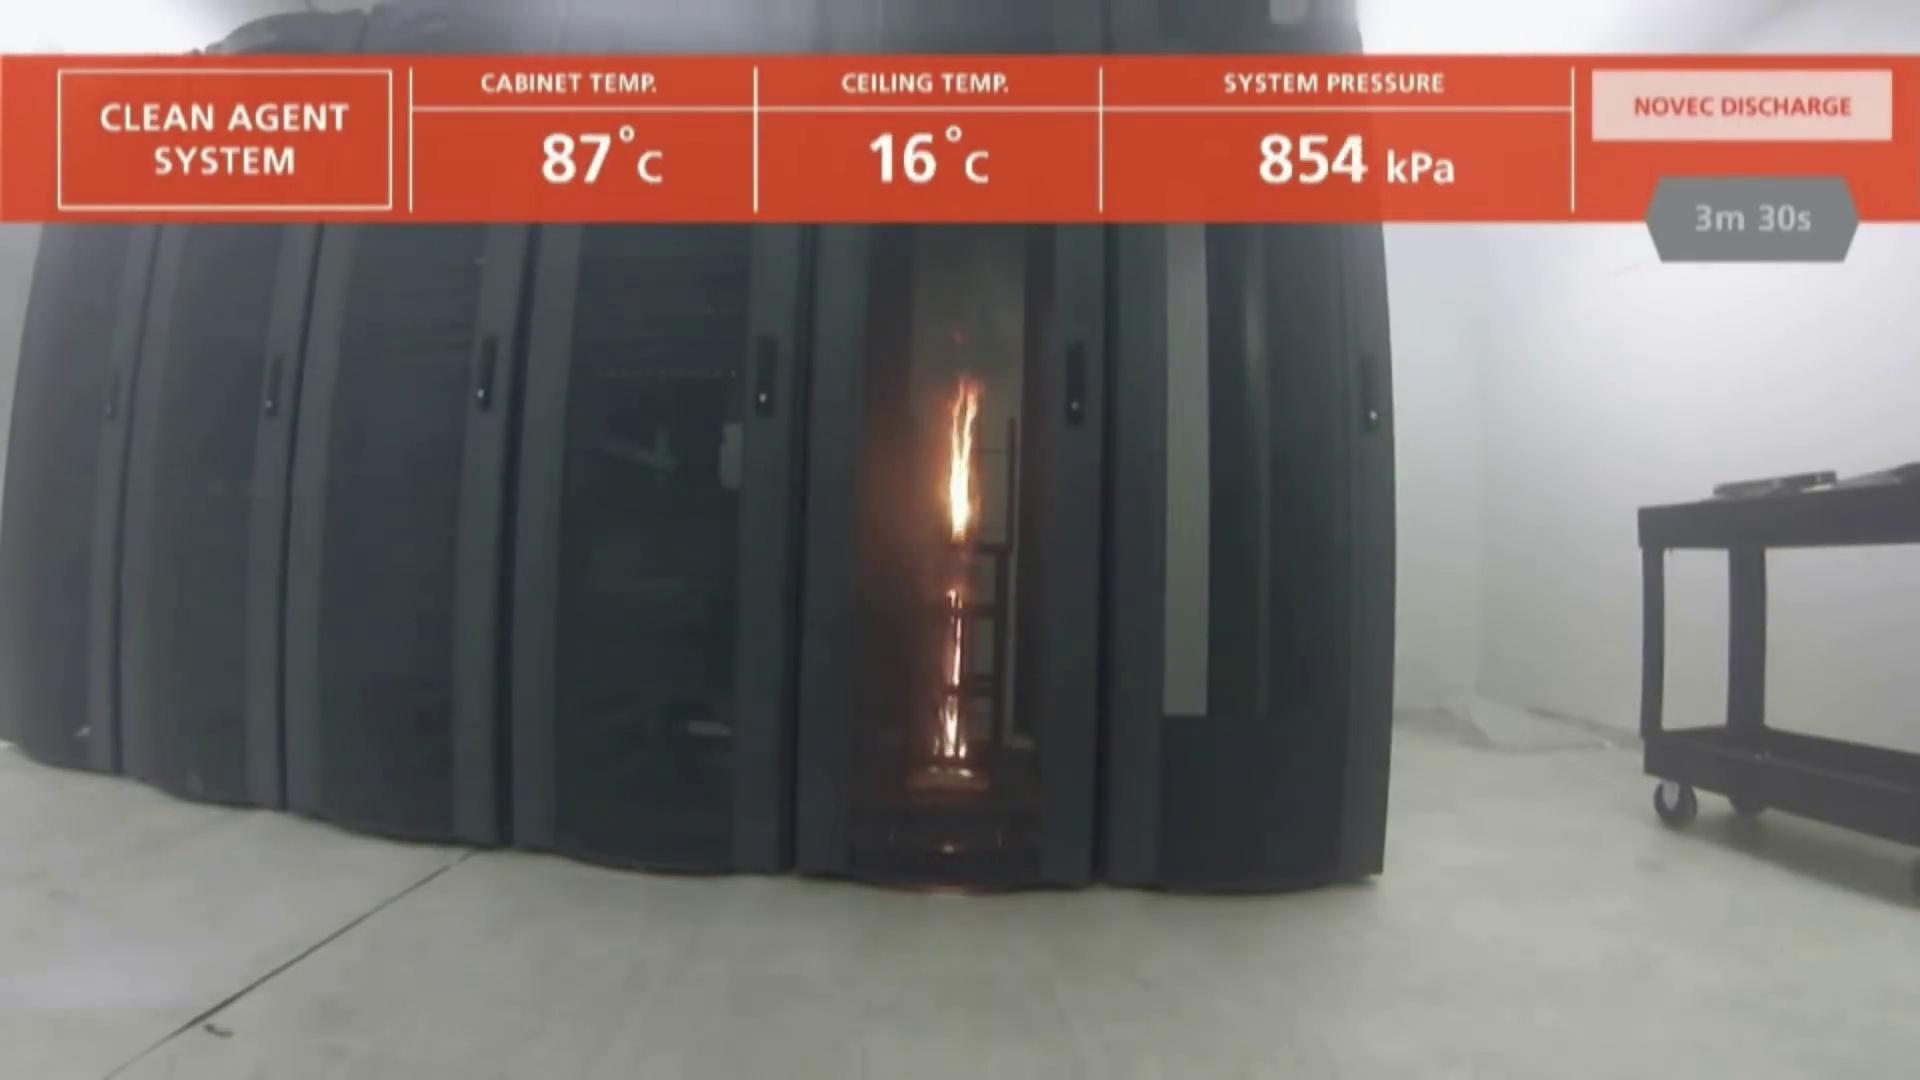fire: (836, 256, 1079, 872)
